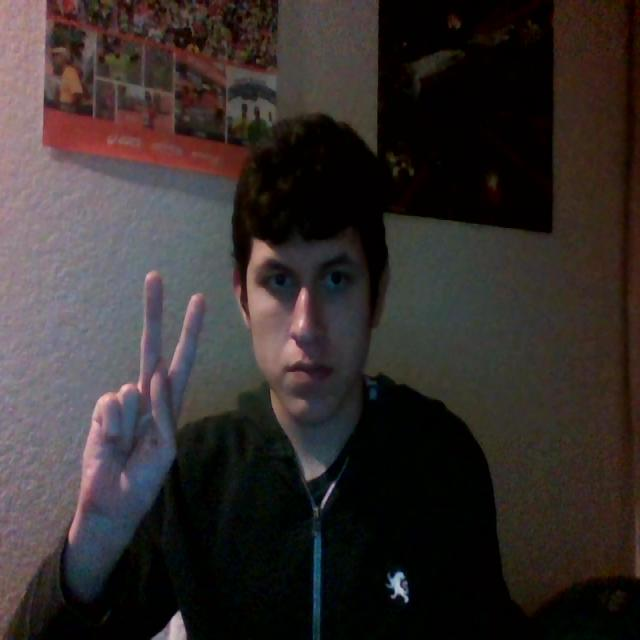K: (55, 238, 269, 588)
